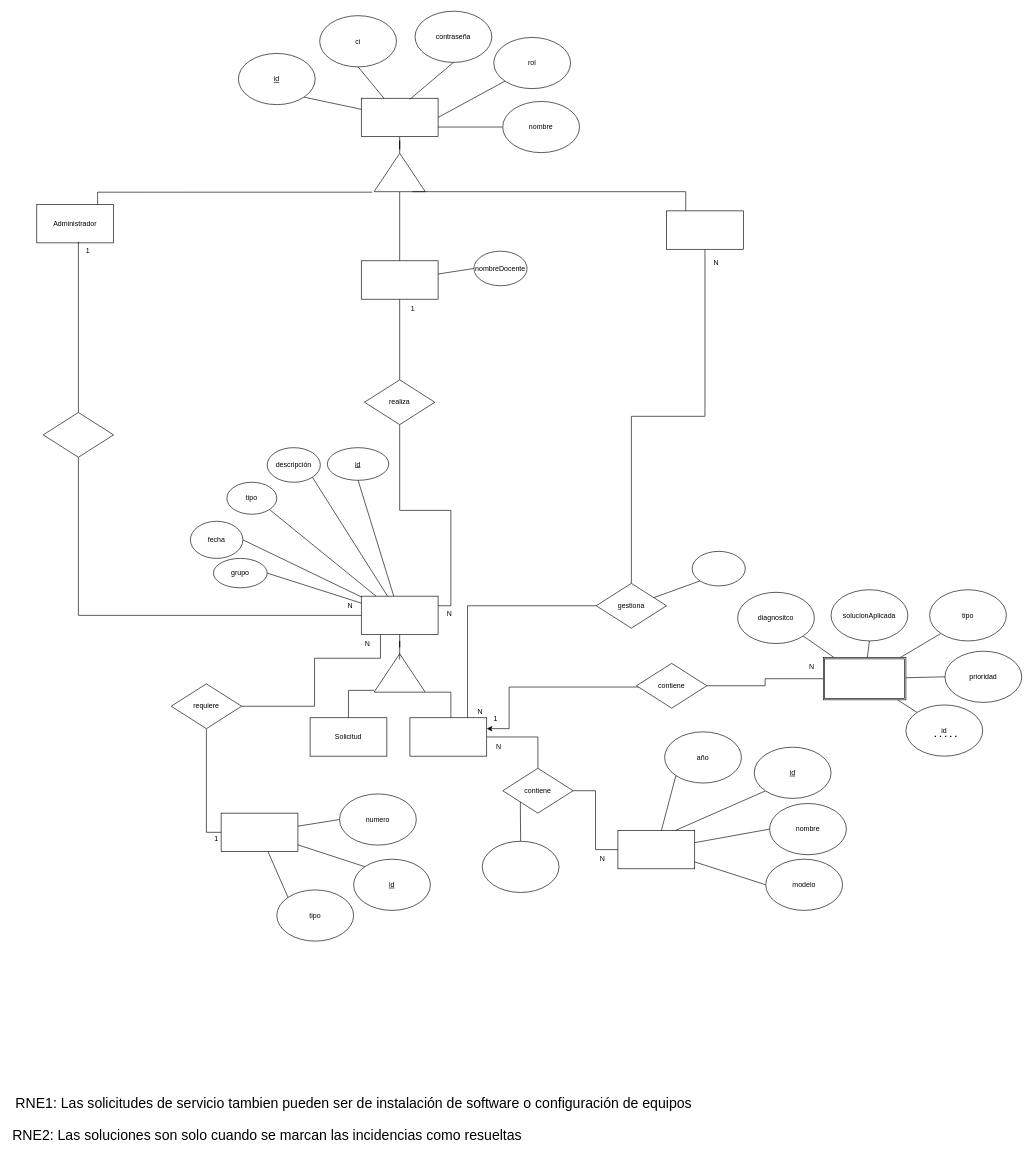
The diagram is 1033 pixels wide and 1169 high, and some of its shapes have lost their labels. Here are the shapes that lost their labels. From the top down, the box of each, then its label:
(361, 98, 438, 137): Usuario
(666, 210, 743, 249): Tecnico
(361, 260, 438, 299): Solicitante
(43, 412, 114, 457): visualiza
(692, 551, 745, 586): nombreTecnico
(361, 596, 438, 635): Requerimiento
(823, 657, 906, 700): Estado
(409, 717, 487, 756): Incidencia
(220, 812, 298, 852): Espacio
(617, 830, 695, 869): Equipo
(482, 841, 559, 892): alumnoAsignado
